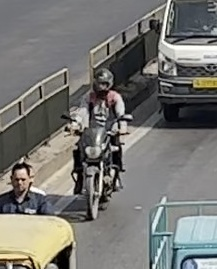BikeWithRider: (57, 62, 136, 223)
Helmet: (87, 63, 118, 98)
NoHelmet: (4, 158, 39, 197)
